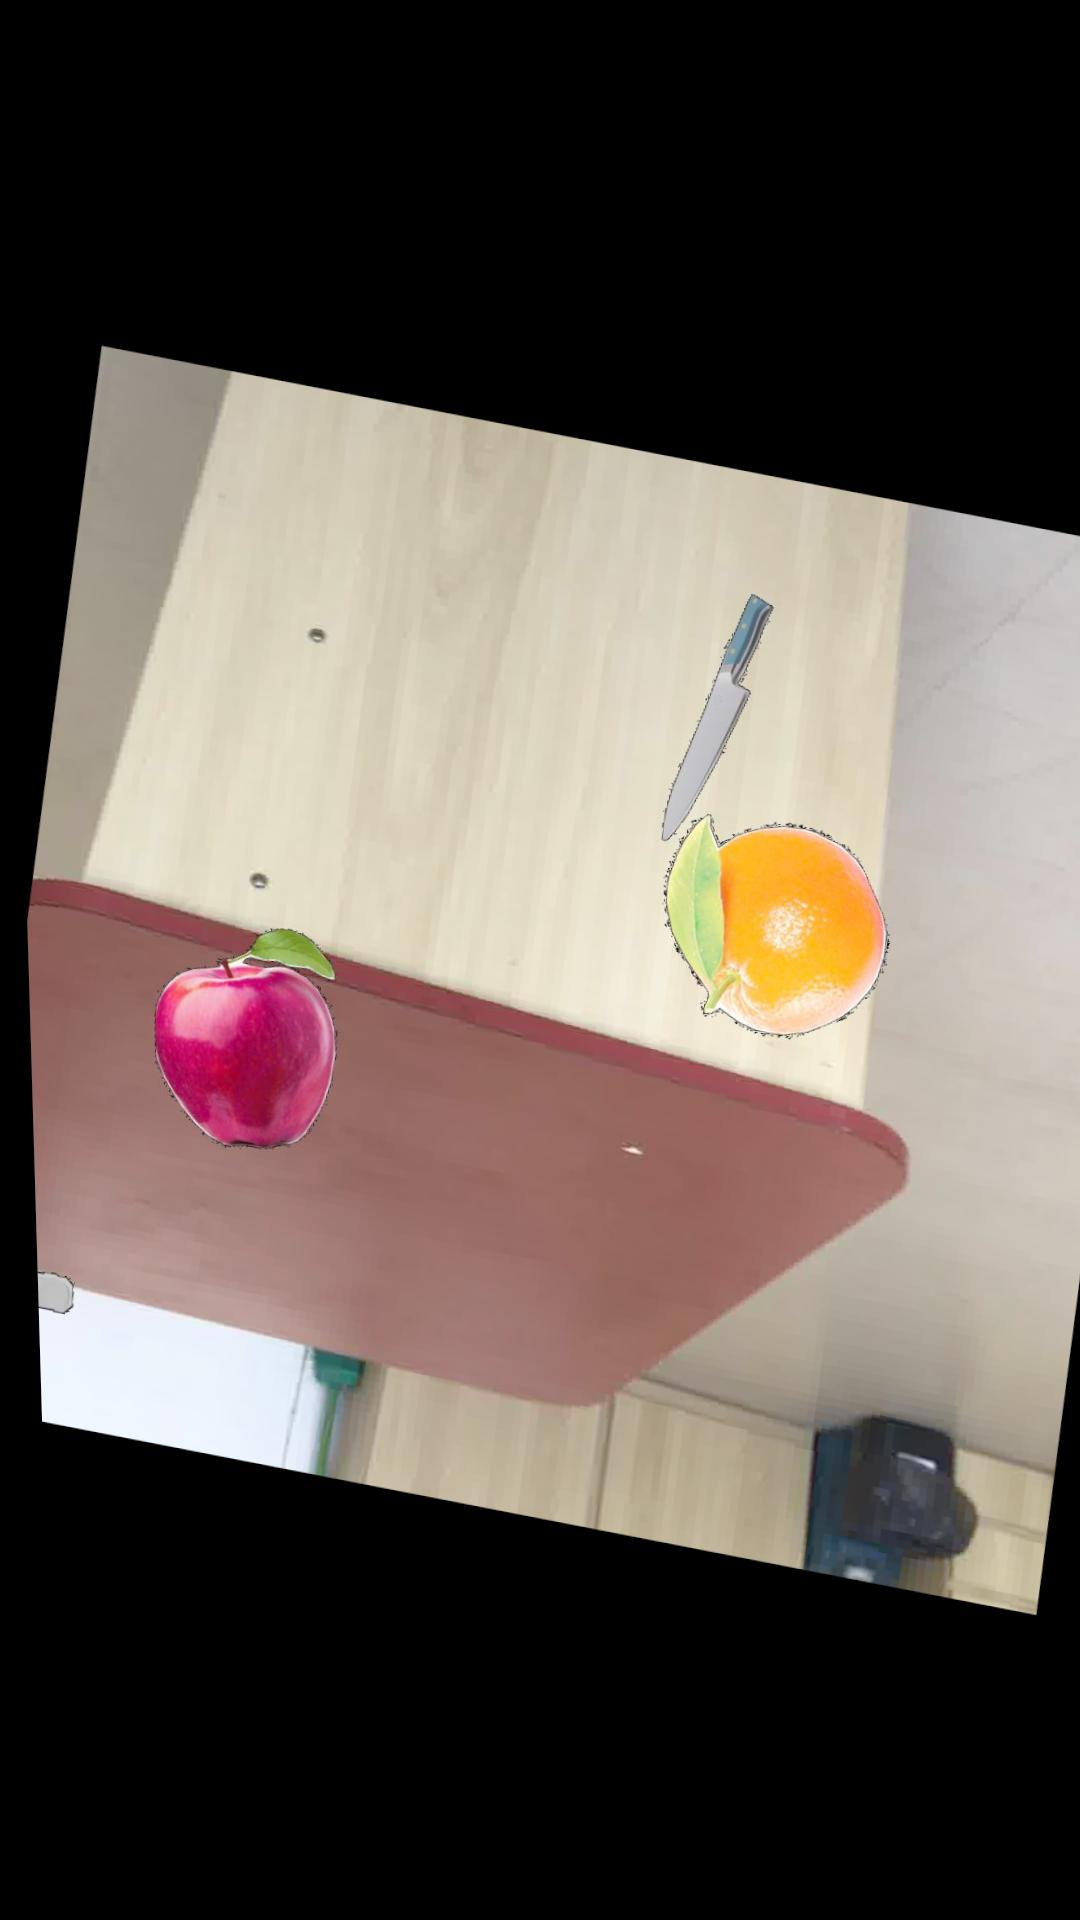apple: (148, 924, 330, 1146)
fork: (29, 1270, 66, 1312)
knife: (657, 587, 770, 835)
orange: (658, 807, 882, 1030)
